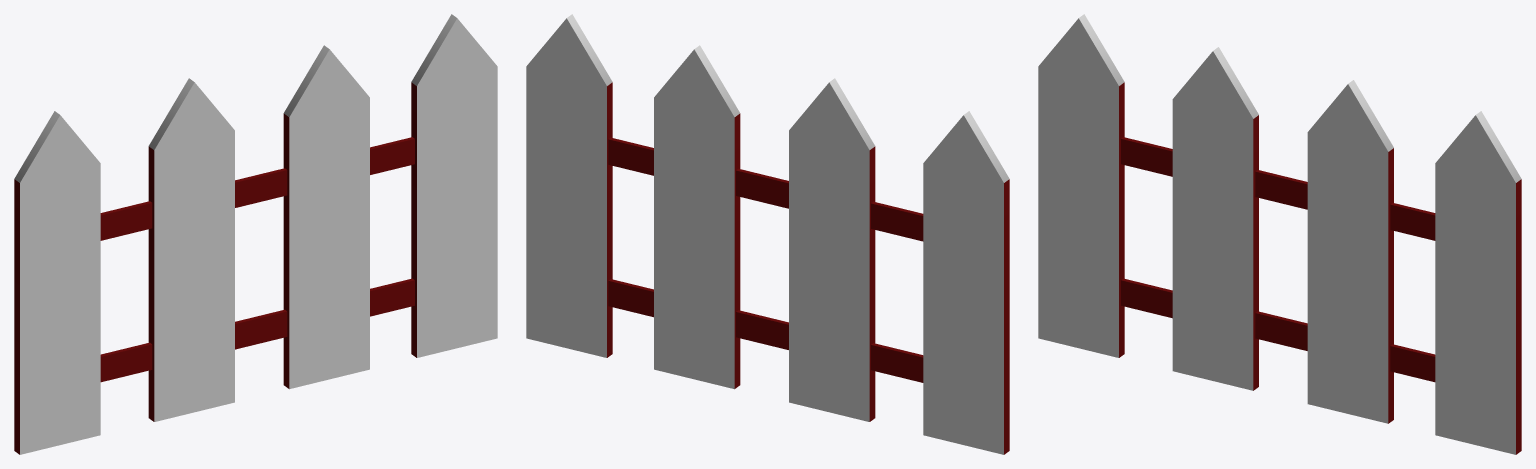
Rendered from Fence.fbx.
3 views of the same model, side by side, from view 1: azimuth 30°, elevation 25°; view 2: azimuth 150°, elevation 25°; view 3: azimuth 330°, elevation 25° (orthographic).
Parts seen in each view (by area): view 1: pasted__group10_pasted__pasted__pCube7; view 2: pasted__group10_pasted__pasted__pCube7; view 3: pasted__group10_pasted__pasted__pCube7.
Boxes of the visible parts, x1,y1,x2,y2 form: pasted__group10_pasted__pasted__pCube7: (14,14,497,454); pasted__group10_pasted__pasted__pCube7: (526,14,1009,454); pasted__group10_pasted__pasted__pCube7: (1038,14,1521,454).
Bounding box in the file's own units: 3947 × 2606 × 81.32.
